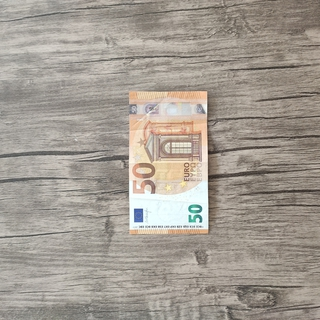50EUROFront: (127, 89, 209, 235)
